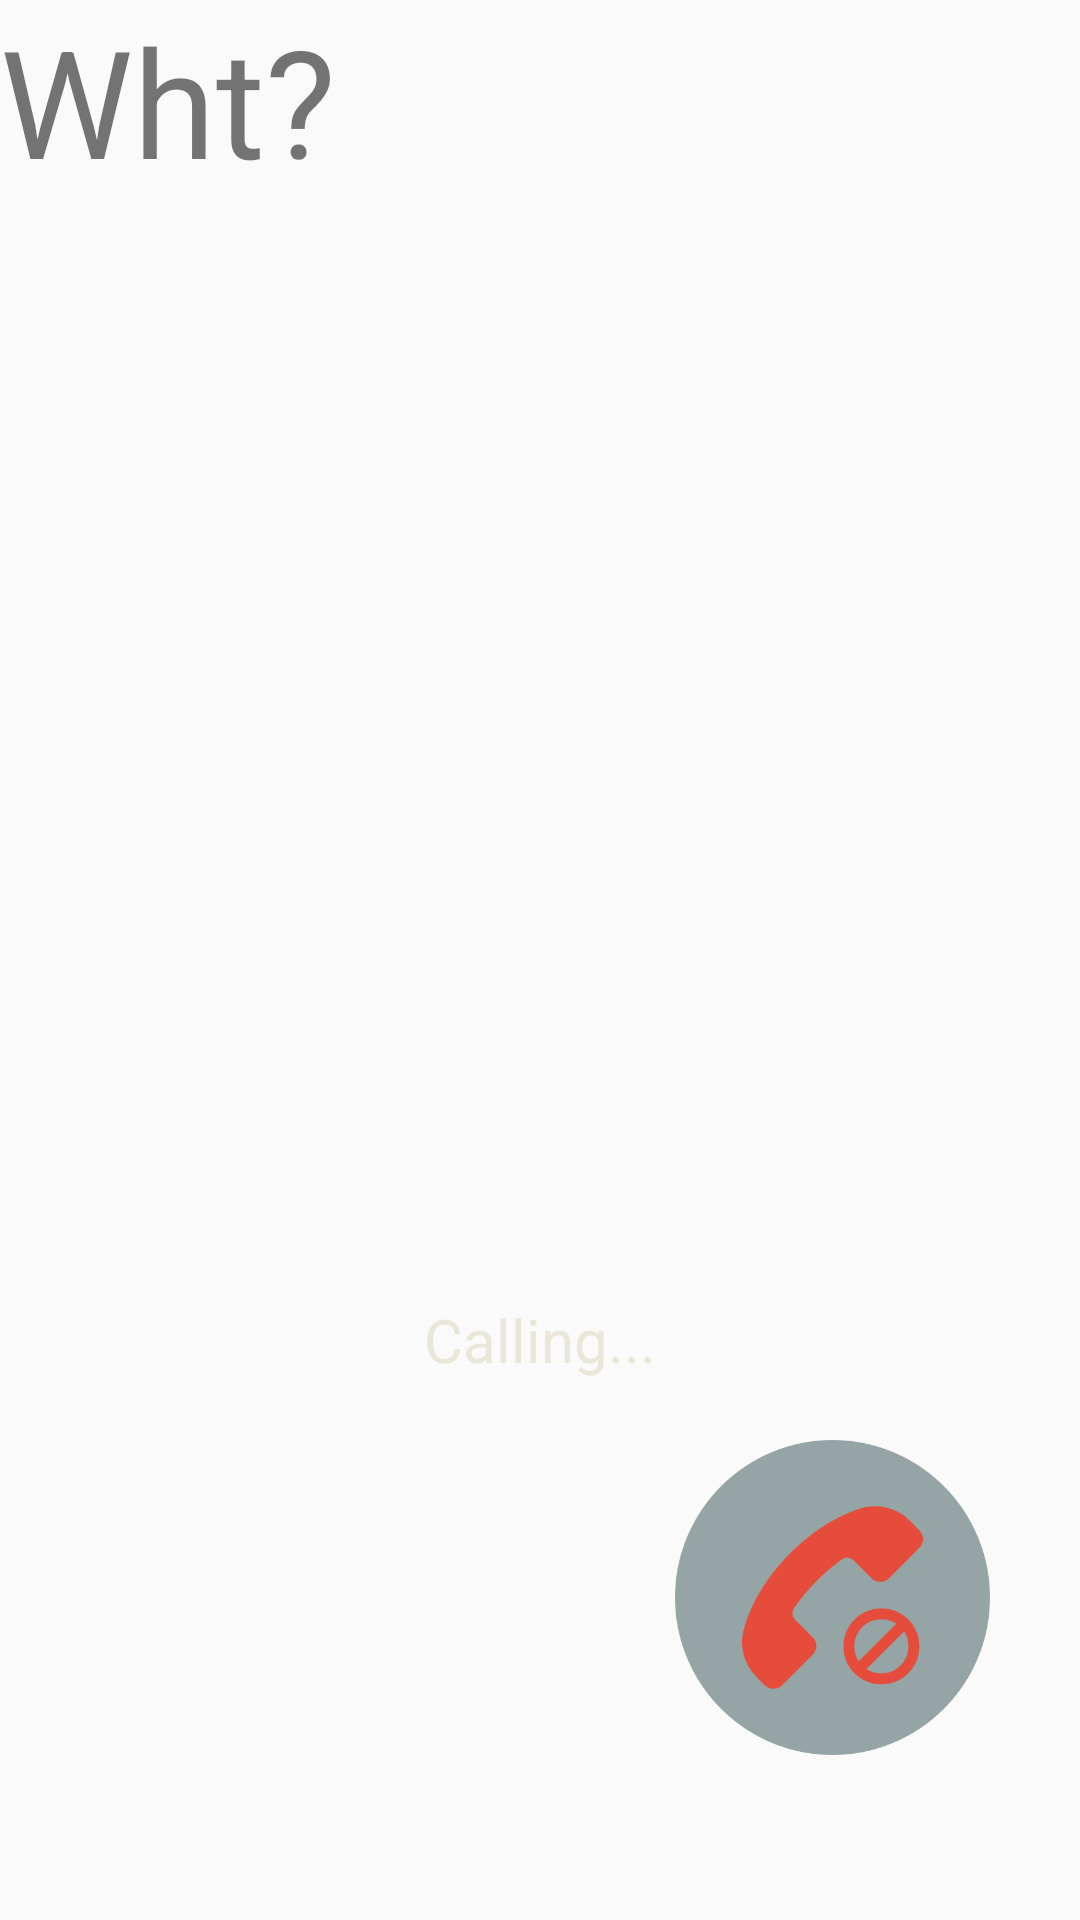

Named icons in this screenshot (1080px x 1920px) and their bounding boxes, bbox(x1, y1, x2, y2):
end call: bbox(675, 1440, 990, 1755)
